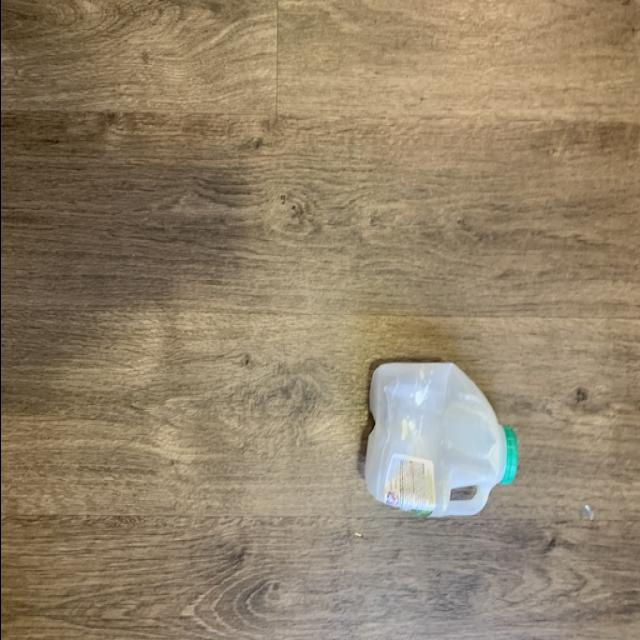litter: (348, 357, 516, 528)
